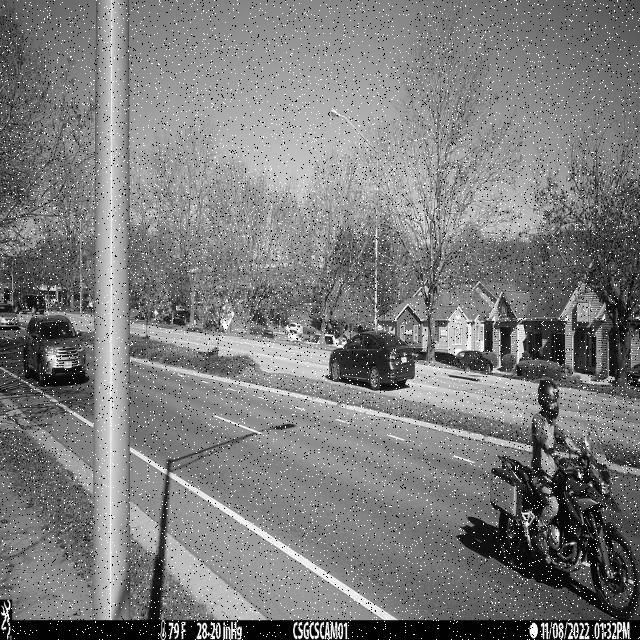Motorbike: (490, 379, 638, 612)
